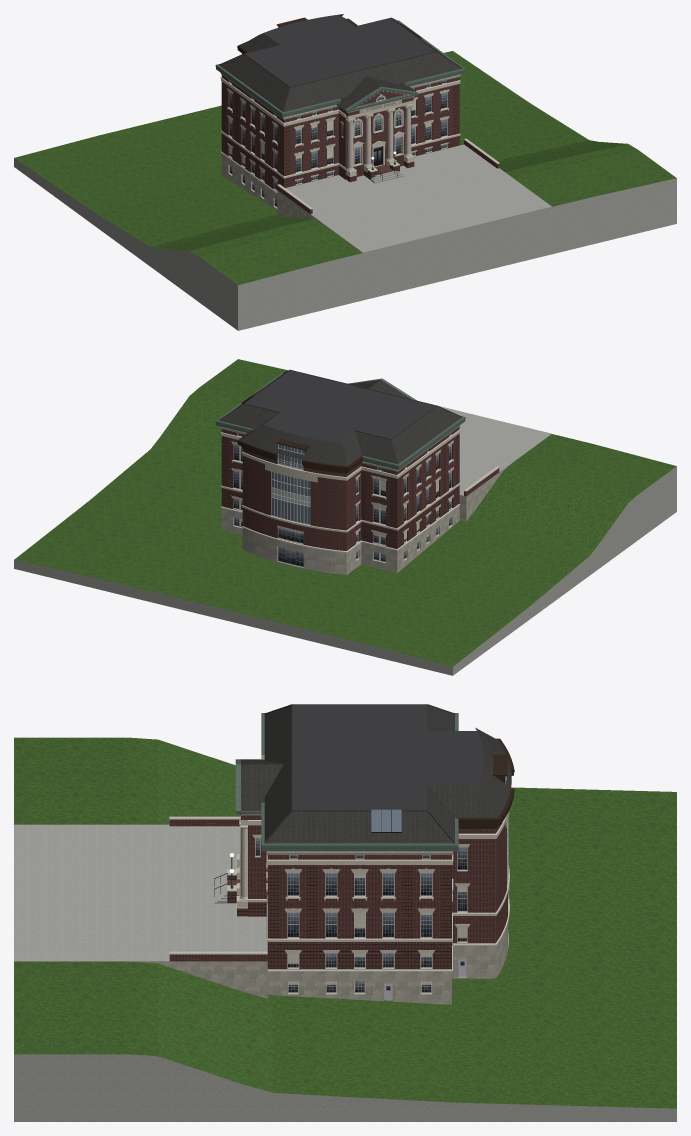
File: pittsburgh_building.glb
The picture shows the model from 3 angles, top to bottom: view 1: azimuth 30°, elevation 25°; view 2: azimuth 150°, elevation 25°; view 3: azimuth 270°, elevation 25°; orthographic projection. The views are drawn at different scales.
Parts seen in each view (by area): view 1: Site, Building; view 2: Site, Building; view 3: Site, Building.
Part boxes in pixels (<box>): Site: <box>14,51,676,330</box>; Building: <box>215,14,465,209</box>; Site: <box>14,359,676,675</box>; Building: <box>215,369,465,574</box>; Site: <box>14,737,676,1121</box>; Building: <box>214,704,514,1004</box>.
Bounding box in the file's own units: 79.25 × 24.21 × 70.1.
19 materials, 11 textured.
